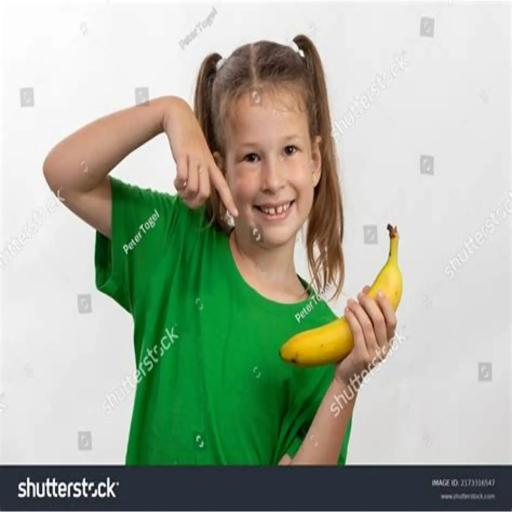banana: (368, 225, 402, 311)
